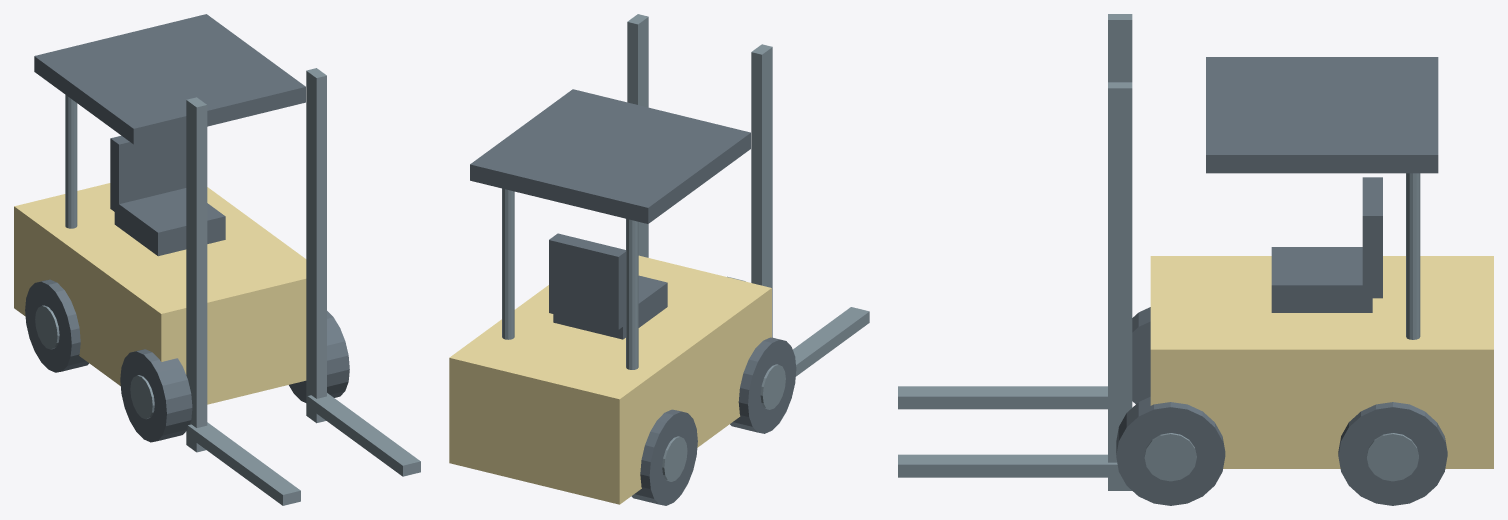
The model's file is forklift.glb.
The picture shows the model from 3 angles, left to right: view 1: azimuth 30°, elevation 25°; view 2: azimuth 150°, elevation 25°; view 3: azimuth 270°, elevation 25°; orthographic projection. The views are drawn at different scales.
Parts seen in each view (by area): view 1: forklift_000, forklift_015, forklift_009, forklift_012, forklift_017, forklift_001, forklift_016, forklift_003, forklift_010, forklift_013, forklift_005, forklift_011 (+2 smaller); view 2: forklift_000, forklift_015, forklift_017, forklift_009, forklift_001, forklift_003, forklift_012, forklift_010, forklift_014, forklift_011, forklift_016, forklift_002 (+1 smaller); view 3: forklift_000, forklift_015, forklift_012, forklift_005, forklift_007, forklift_016, forklift_013, forklift_010, forklift_017, forklift_014, forklift_006, forklift_008 (+2 smaller).
Part boxes in pixels (bbox=[...]): forklift_000: bbox=[14, 183, 306, 404]; forklift_015: bbox=[34, 14, 305, 144]; forklift_009: bbox=[186, 97, 207, 452]; forklift_012: bbox=[306, 68, 326, 423]; forklift_017: bbox=[110, 132, 186, 213]; forklift_001: bbox=[120, 349, 192, 442]; forklift_016: bbox=[114, 188, 225, 256]; forklift_003: bbox=[25, 279, 88, 372]; forklift_010: bbox=[187, 422, 300, 505]; forklift_013: bbox=[307, 393, 420, 476]; forklift_005: bbox=[289, 311, 349, 402]; forklift_011: bbox=[65, 95, 77, 228]; forklift_000: bbox=[449, 255, 771, 504]; forklift_015: bbox=[470, 89, 750, 223]; forklift_017: bbox=[549, 233, 625, 329]; forklift_009: bbox=[751, 44, 772, 337]; forklift_001: bbox=[730, 337, 796, 433]; forklift_003: bbox=[631, 409, 697, 505]; forklift_012: bbox=[627, 14, 648, 257]; forklift_010: bbox=[793, 307, 869, 376]; forklift_014: bbox=[502, 188, 514, 339]; forklift_011: bbox=[626, 219, 638, 369]; forklift_016: bbox=[553, 275, 667, 339]; forklift_002: bbox=[760, 364, 785, 409]; forklift_000: bbox=[1150, 256, 1493, 468]; forklift_015: bbox=[1206, 57, 1438, 173]; forklift_012: bbox=[1108, 82, 1132, 490]; forklift_005: bbox=[1116, 396, 1225, 505]; forklift_007: bbox=[1338, 402, 1447, 505]; forklift_016: bbox=[1271, 247, 1372, 312]; forklift_013: bbox=[898, 454, 1120, 477]; forklift_010: bbox=[898, 386, 1107, 409]; forklift_017: bbox=[1362, 177, 1382, 298]; forklift_014: bbox=[1406, 173, 1420, 339]; forklift_006: bbox=[1144, 433, 1196, 481]; forklift_008: bbox=[1366, 433, 1418, 481].
Size of the model in its own units: 1.25 by 2.2 by 2.95.
